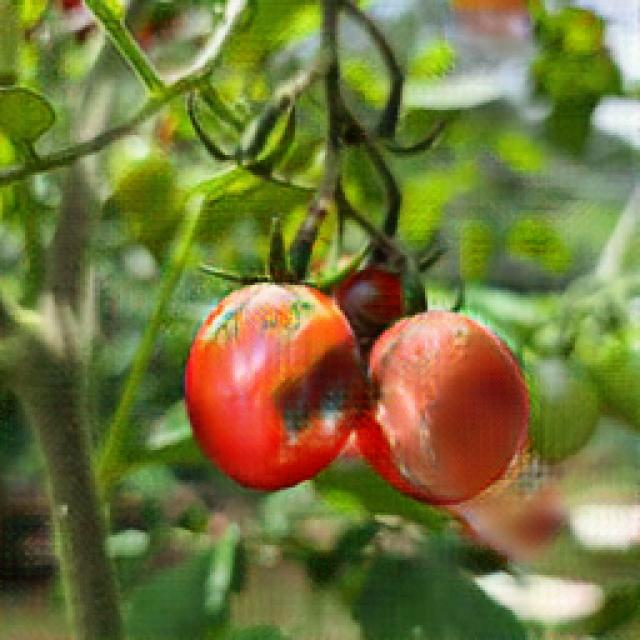overripe tomato: (186, 284, 364, 496), (356, 308, 528, 506)
